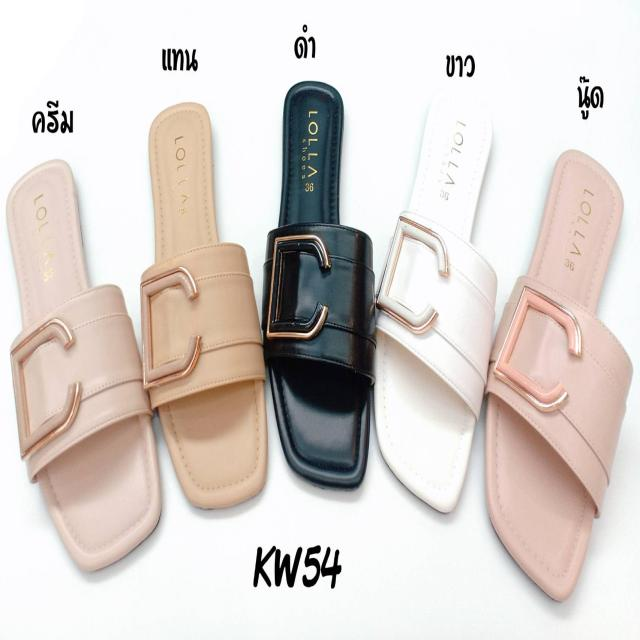black: (272, 79, 374, 484)
cream: (9, 162, 159, 574)
nood: (492, 147, 626, 599)
tan: (146, 98, 266, 510)
white: (375, 86, 492, 507)
